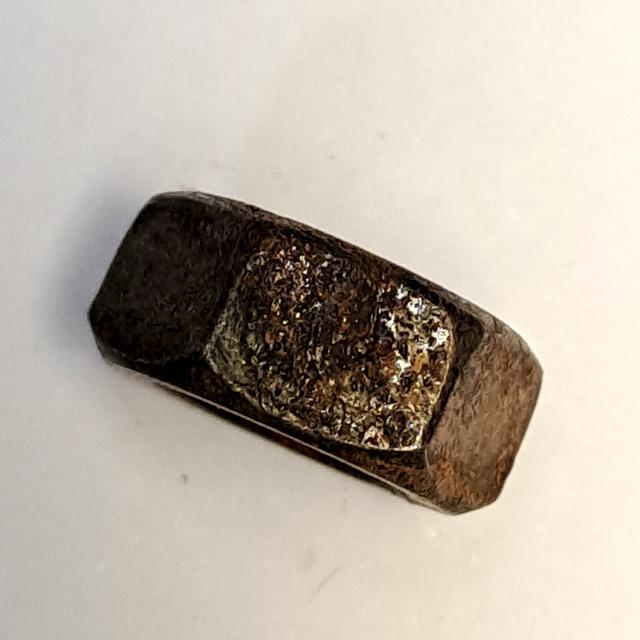Side_Rust: (74, 173, 566, 536)
